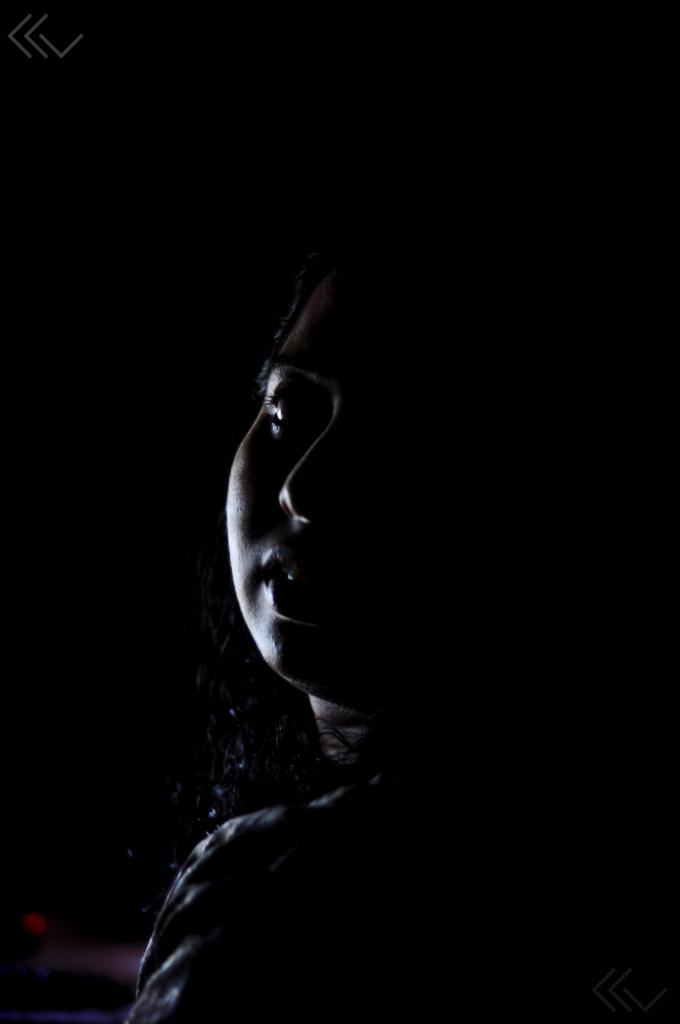face: (229, 224, 453, 726)
